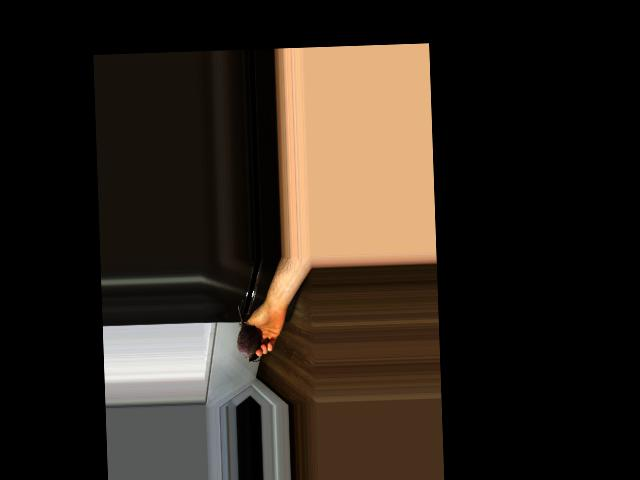beet: (236, 305, 260, 362)
